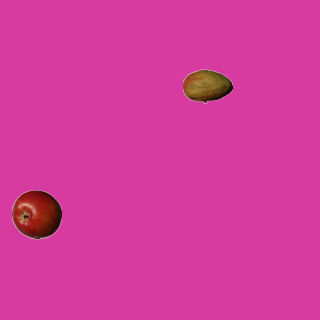Apple Braeburn: (11, 189, 61, 239)
Papaya: (182, 61, 232, 111)
